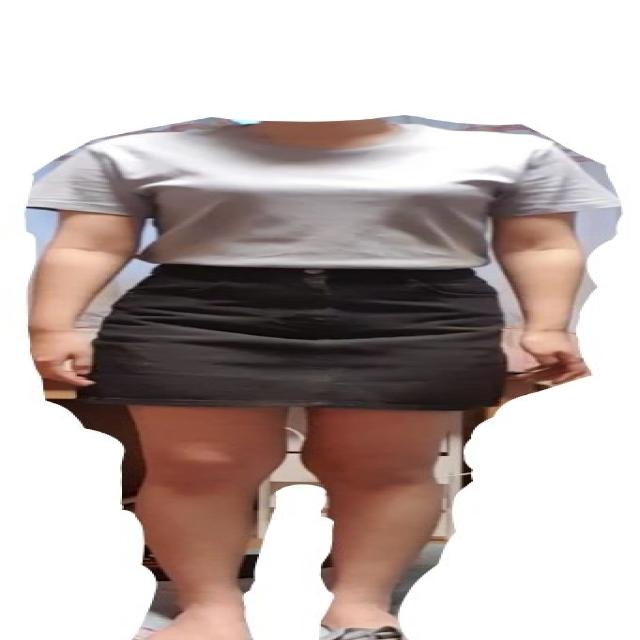shortsleeve: (31, 119, 613, 268)
skirt: (81, 263, 504, 412)
